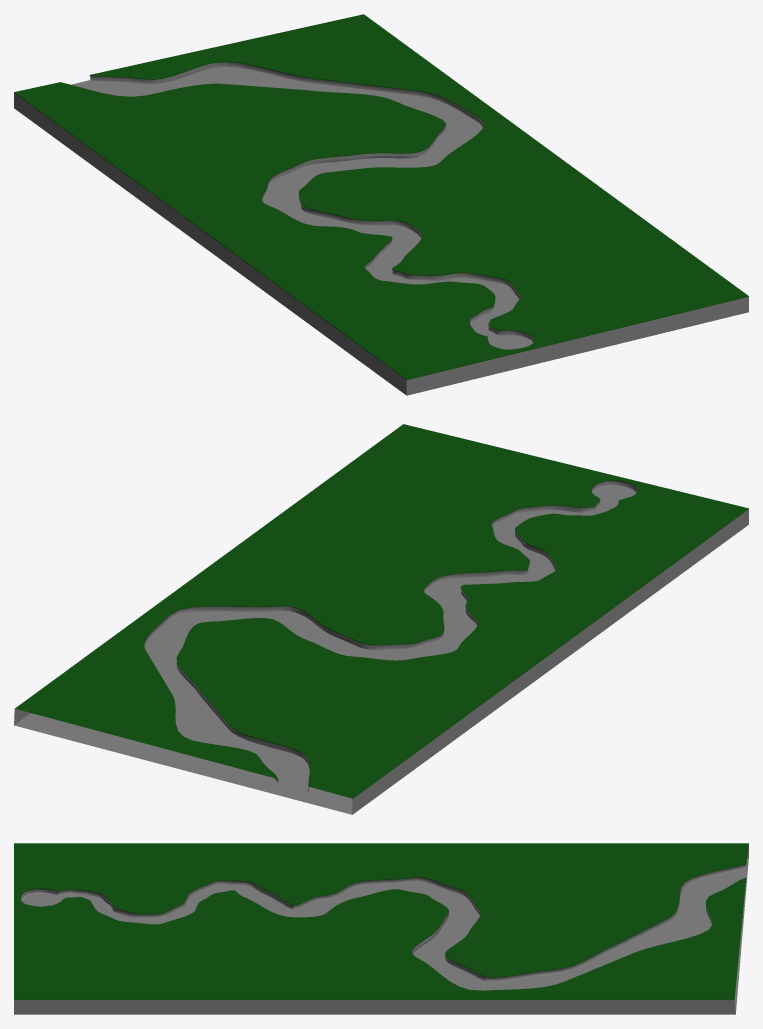
File: Escenario.fbx
3 views of the same model, one above another, from view 1: azimuth 30°, elevation 25°; view 2: azimuth 150°, elevation 25°; view 3: azimuth 270°, elevation 25° (orthographic). The views are drawn at different scales.
Visible parts, largest first — view 1: Escenario, Suelo; view 2: Escenario, Suelo; view 3: Escenario, Suelo.
Part boxes in pixels (bbox=[...]): Escenario: bbox=[14, 14, 748, 395]; Suelo: bbox=[71, 67, 532, 349]; Escenario: bbox=[14, 424, 748, 814]; Suelo: bbox=[144, 485, 636, 791]; Escenario: bbox=[14, 843, 748, 1014]; Suelo: bbox=[21, 869, 746, 990].
Size of the model in its own units: 20983 by 946 by 41717.
